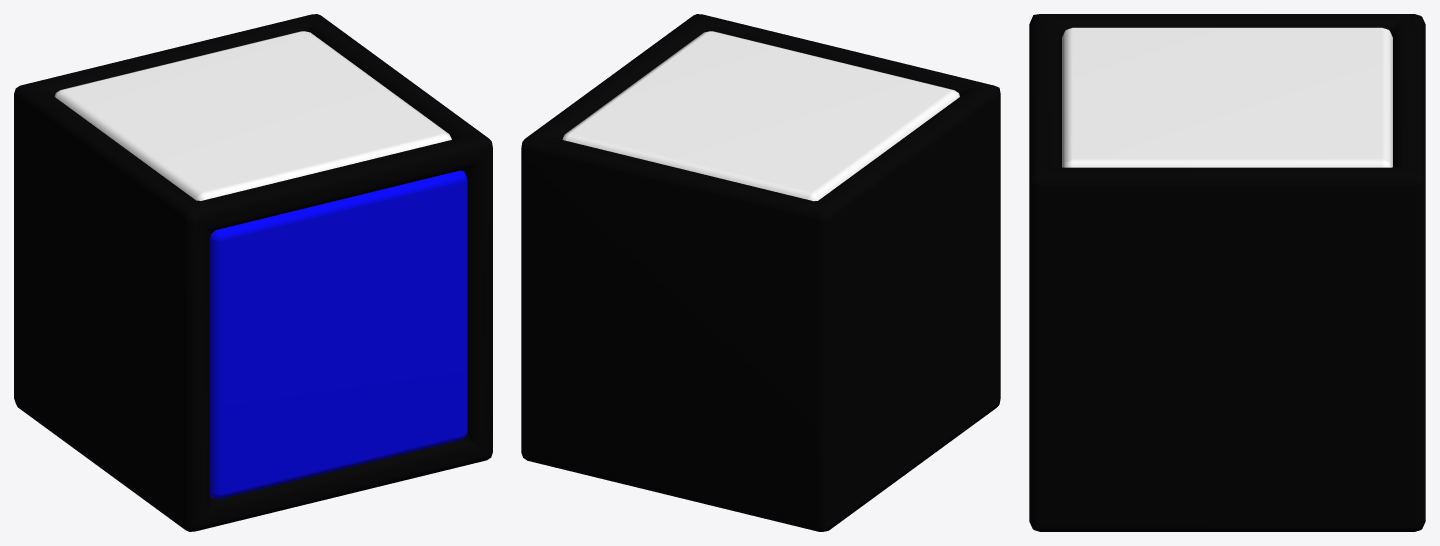
3 renders of one model, left to right at view 1: azimuth 30°, elevation 25°; view 2: azimuth 150°, elevation 25°; view 3: azimuth 270°, elevation 25°, orthographic. The views are drawn at different scales.
Visible parts, largest first — view 1: Cube.025; view 2: Cube.025; view 3: Cube.025.
Part boxes in pixels (x1,y1,x2,y2): Cube.025: (14,14,492,531); Cube.025: (521,14,1000,531); Cube.025: (1029,14,1425,531).
Size of the model in its own units: 2 by 2 by 2.
